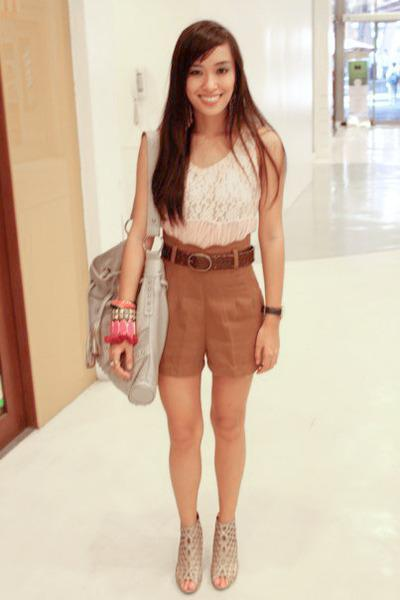bag: (83, 211, 167, 405)
shirt: (164, 132, 262, 268)
shoe: (174, 516, 238, 596)
shorts: (157, 258, 275, 395)
